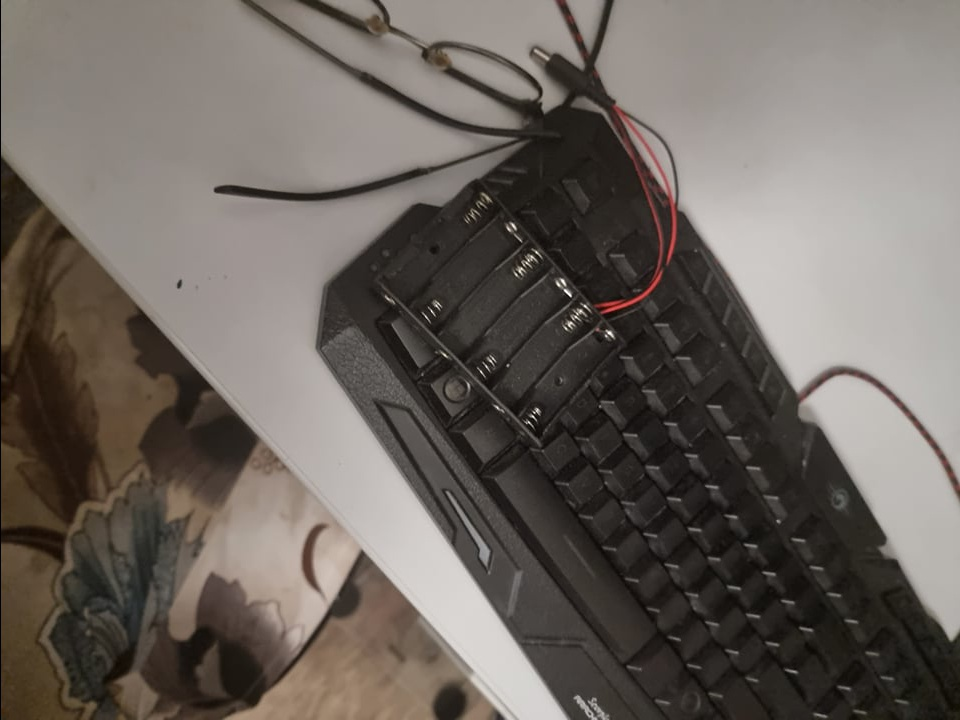BATTERY BOX: (359, 177, 636, 449)
